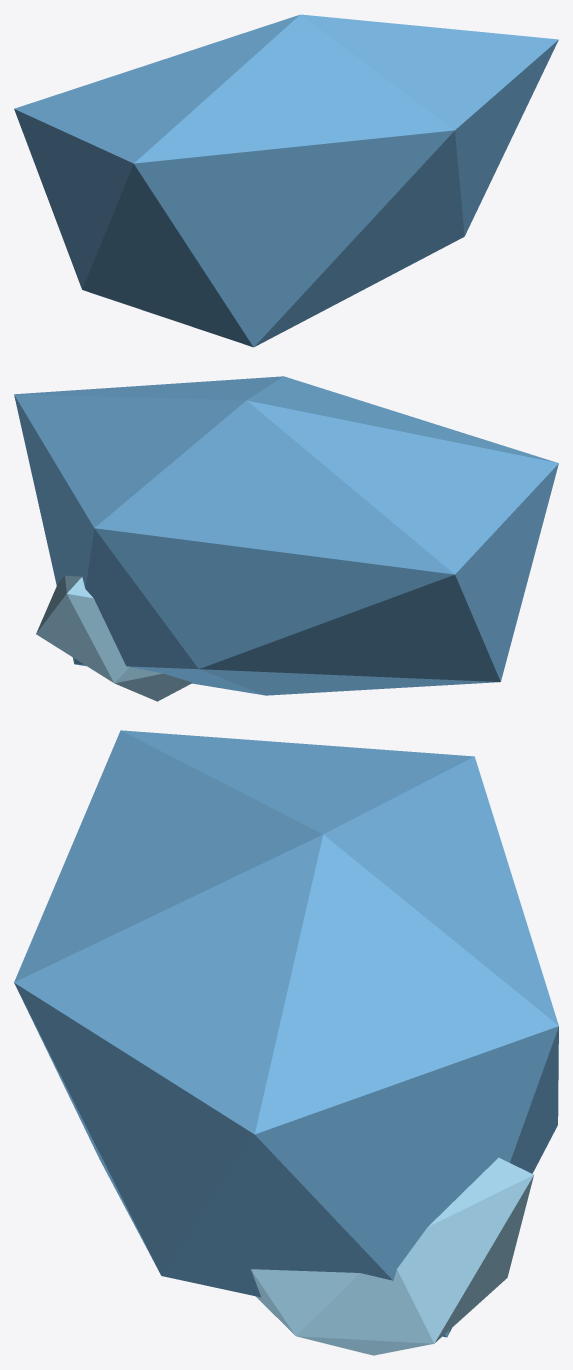
The model's file is glacier_chunk.fbx.
3 renders of one model, top to bottom at view 1: azimuth 30°, elevation 25°; view 2: azimuth 150°, elevation 25°; view 3: azimuth 270°, elevation 25°, orthographic. The views are drawn at different scales.
Visible parts, largest first — view 1: glacier_chunk; view 2: glacier_chunk; view 3: glacier_chunk.
Boxes of the visible parts, x1,y1,x2,y2 form: glacier_chunk: [14, 14, 558, 347]; glacier_chunk: [14, 376, 558, 701]; glacier_chunk: [14, 730, 558, 1355].
Bounding box in the file's own units: 4.1 × 2.34 × 2.48.
